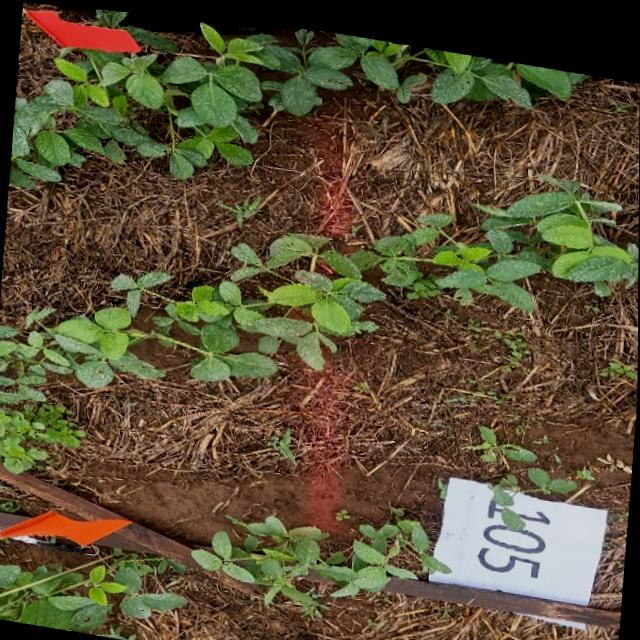caruru_weed: (0, 403, 83, 472), (494, 319, 529, 363), (266, 423, 296, 459), (600, 347, 638, 367), (335, 501, 350, 515)
grassy_weed: (222, 190, 260, 222)
soy_plant: (0, 163, 639, 386), (11, 19, 587, 175), (192, 501, 448, 609), (0, 566, 111, 630), (113, 556, 185, 615), (463, 416, 536, 454), (490, 463, 525, 521), (88, 563, 126, 603), (528, 457, 575, 482), (60, 571, 83, 585), (0, 564, 7, 588)
